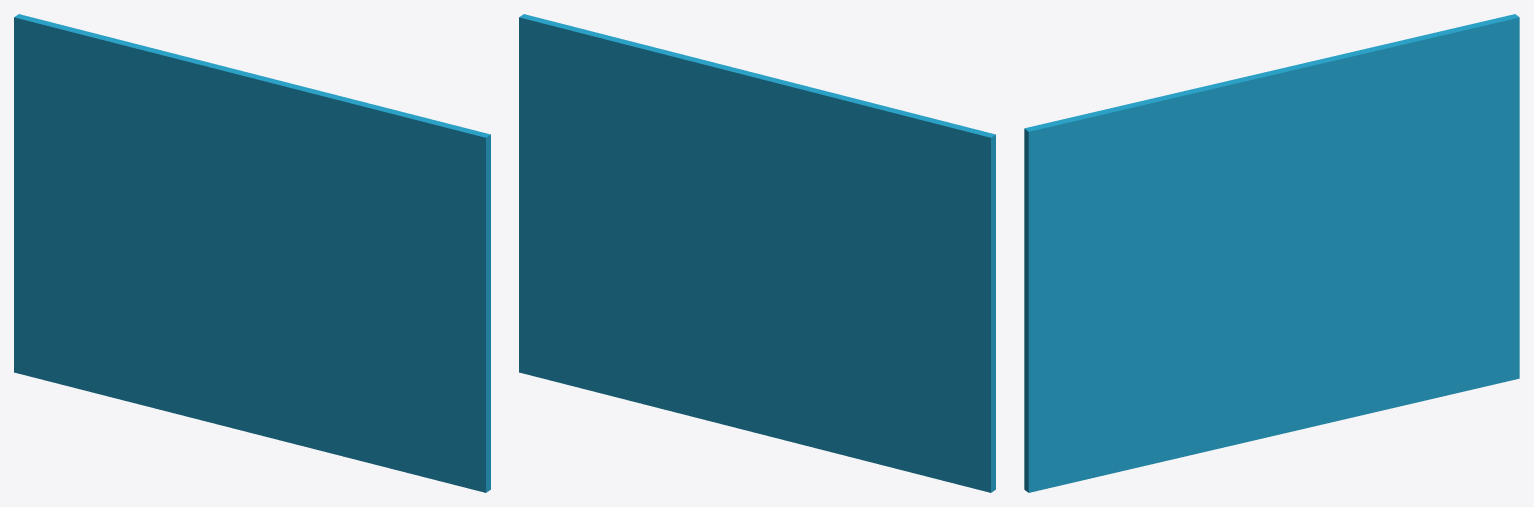
3 views of the same model, side by side, from view 1: azimuth 30°, elevation 25°; view 2: azimuth 210°, elevation 25°; view 3: azimuth 270°, elevation 25° (orthographic).
Visible parts, largest first — view 1: Visual_Cube; view 2: Visual_Cube; view 3: Visual_Cube.
Part boxes in pixels (x1,y1,x2,y2): Visual_Cube: (14, 14, 490, 492); Visual_Cube: (519, 14, 995, 492); Visual_Cube: (1024, 14, 1519, 492).
Size of the model in its own units: 58.96 by 84.21 by 105.
